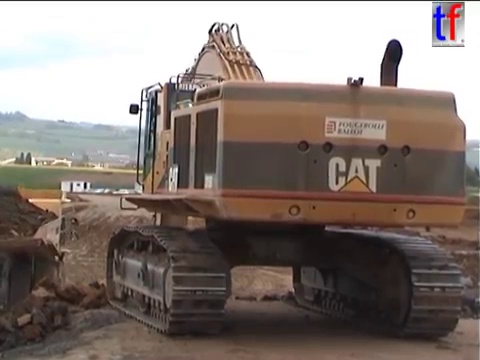excavator: (100, 17, 472, 343)
truck: (1, 182, 83, 325)
